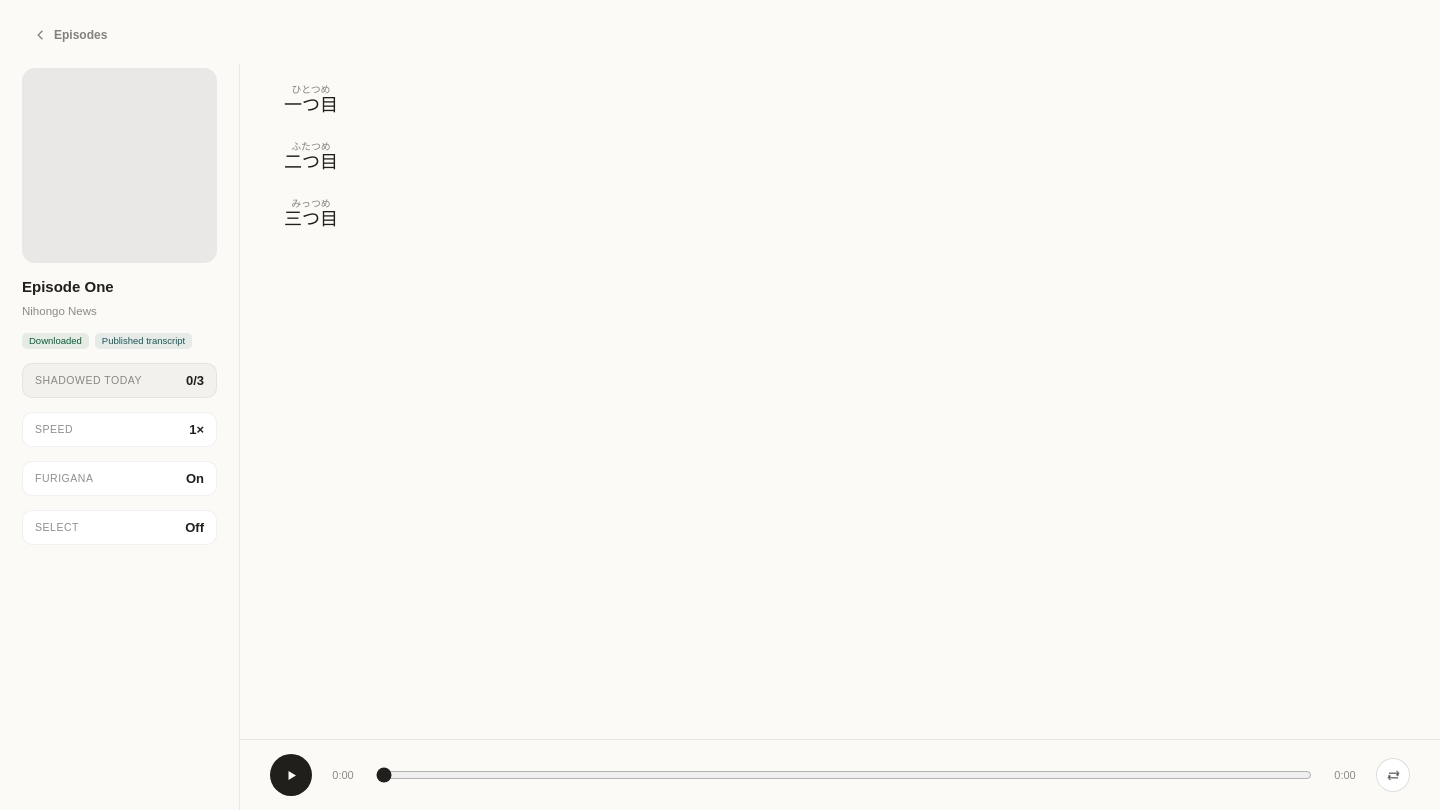
Test: Player › cycles playback speed through 0.75x / 1x / 1.25x / 1.5x
Click the button with test id "speed-control".
click(120, 429)  # box [22, 412, 217, 447]
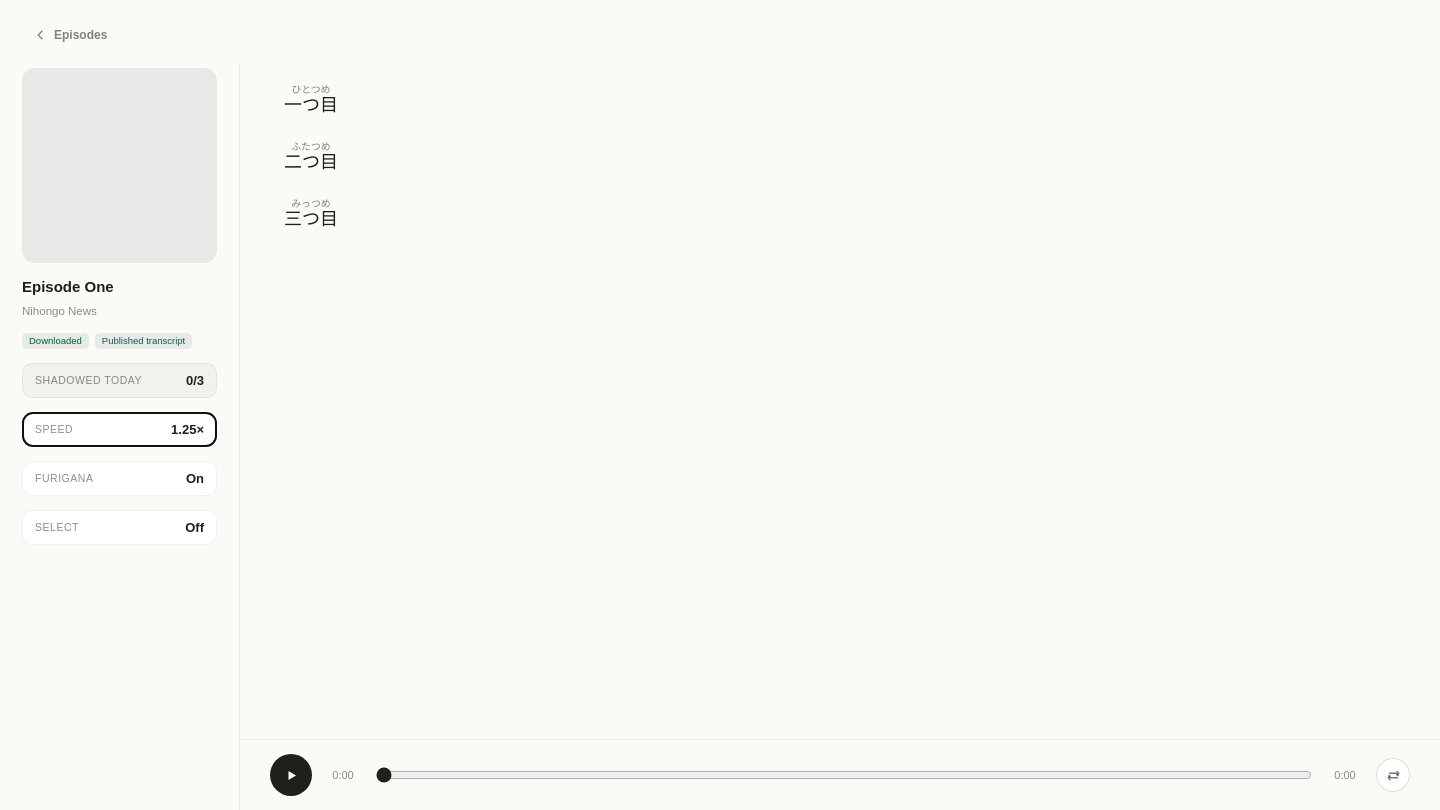
Expected: the button with test id "speed-control" shows "1.25×"
Click the button with test id "speed-control".
click(120, 429)  # box [22, 412, 217, 447]
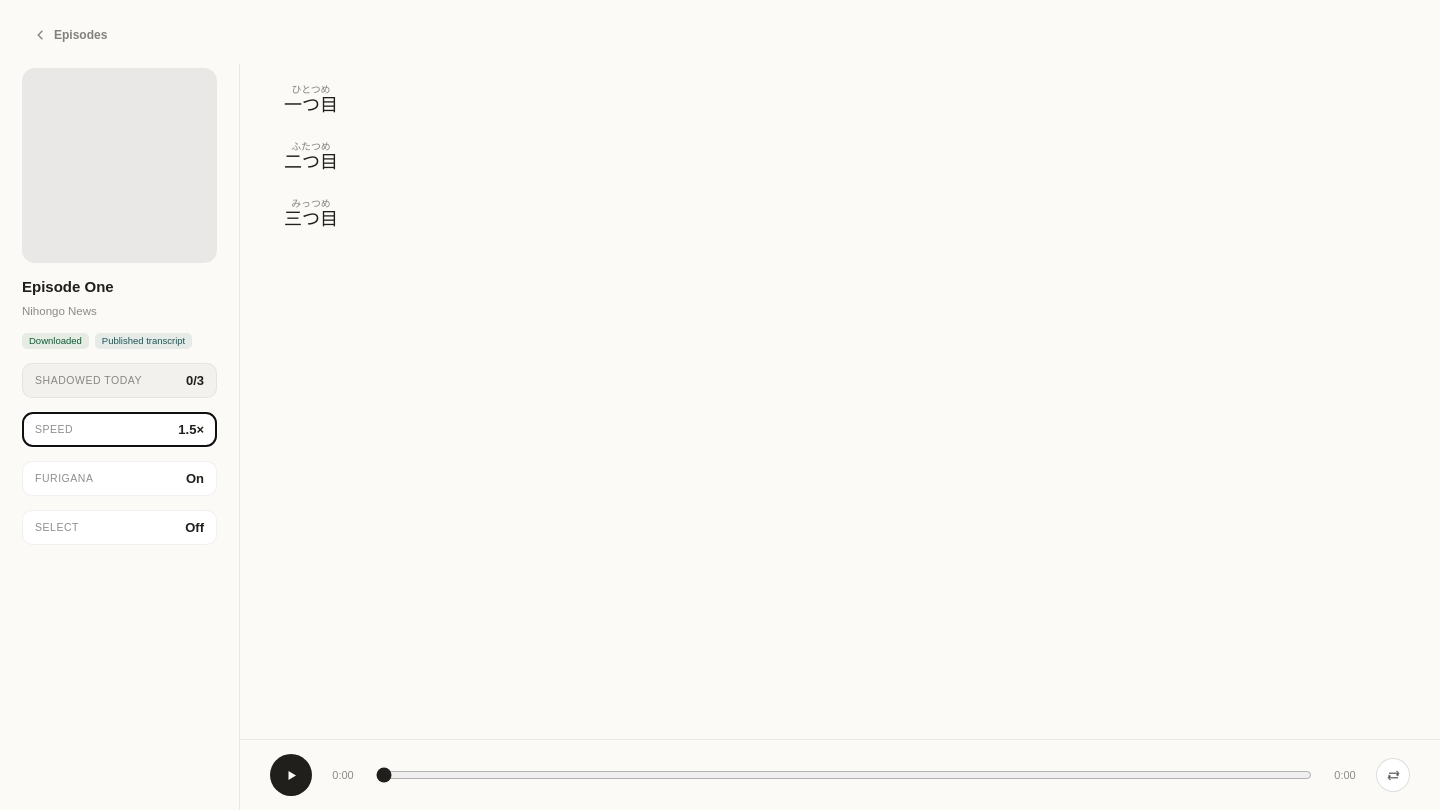
Expected: the button with test id "speed-control" shows "1.5×"
Click the button with test id "speed-control".
click(120, 429)  # box [22, 412, 217, 447]
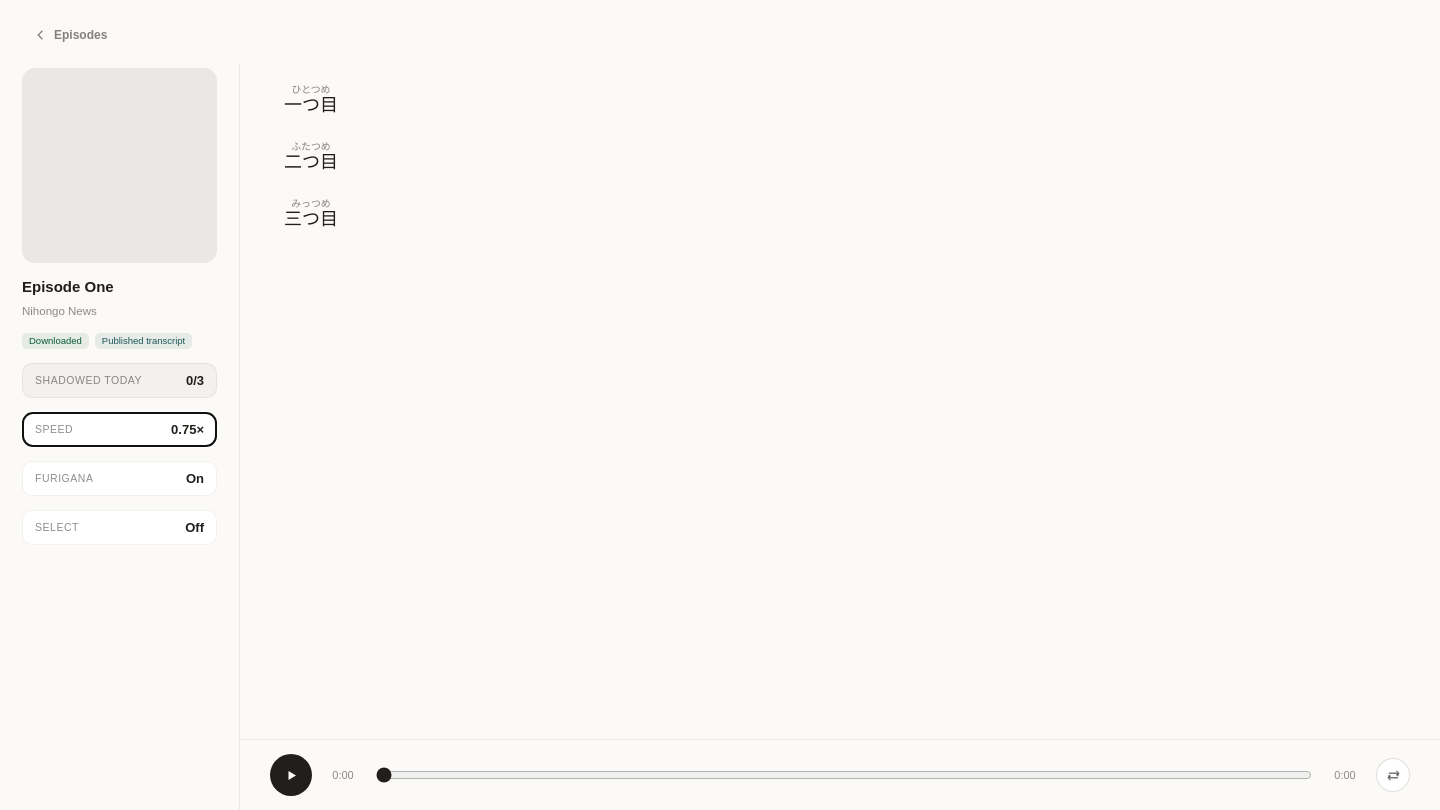
Expected: the button with test id "speed-control" shows "0.75×", [22, 412, 217, 447]
